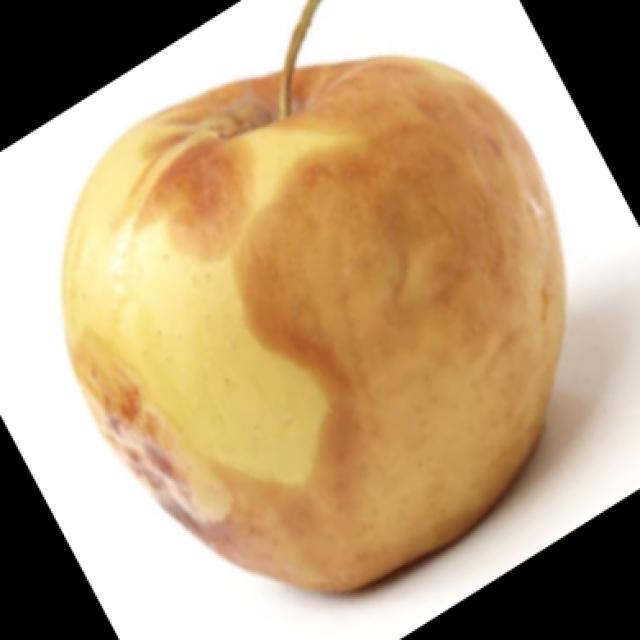Rotten: (50, 42, 560, 565)
